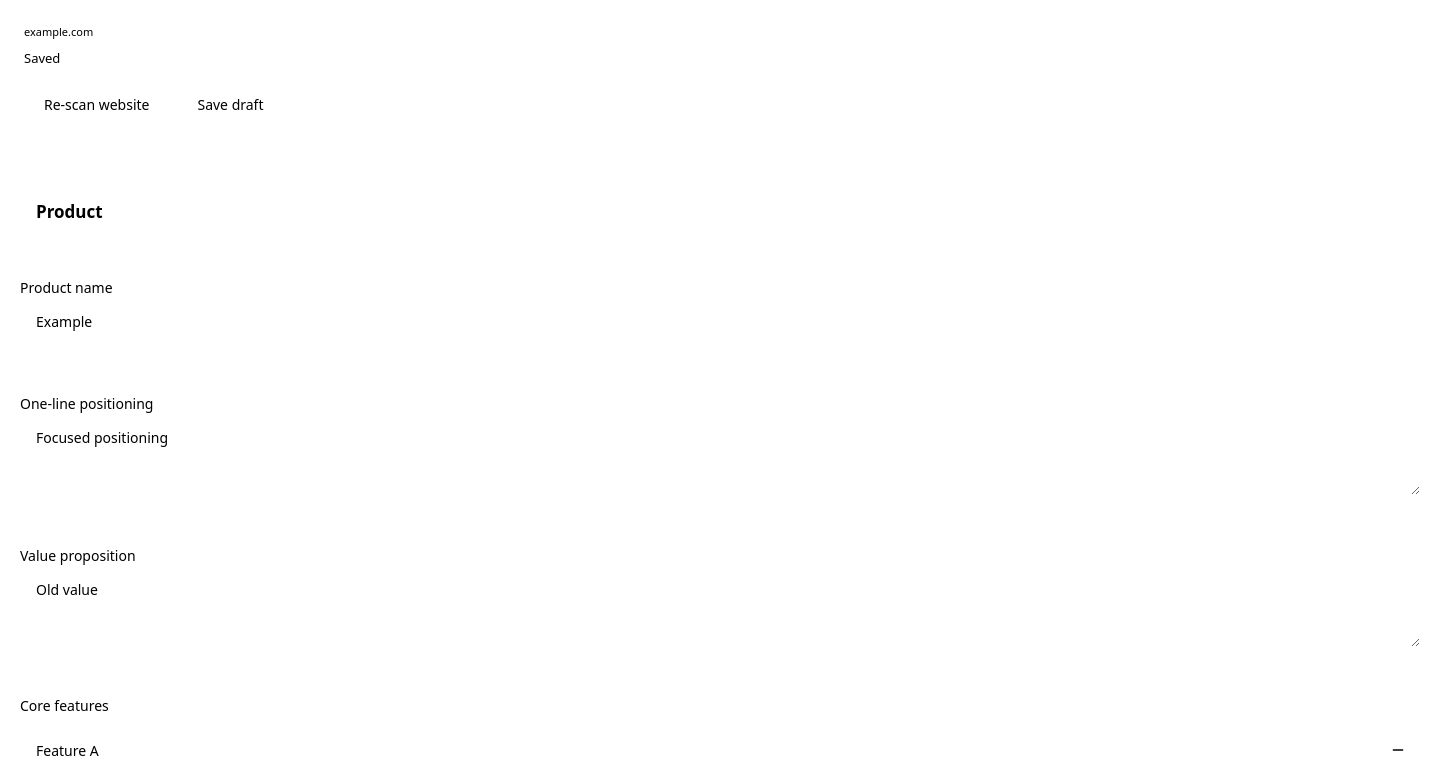
Scenario: WebsiteProfileEditor › does not discover competitors when manual refresh proposals are dismissed
Click the button "Re-scan website".
click(97, 104)  # box [24,84,170,124]
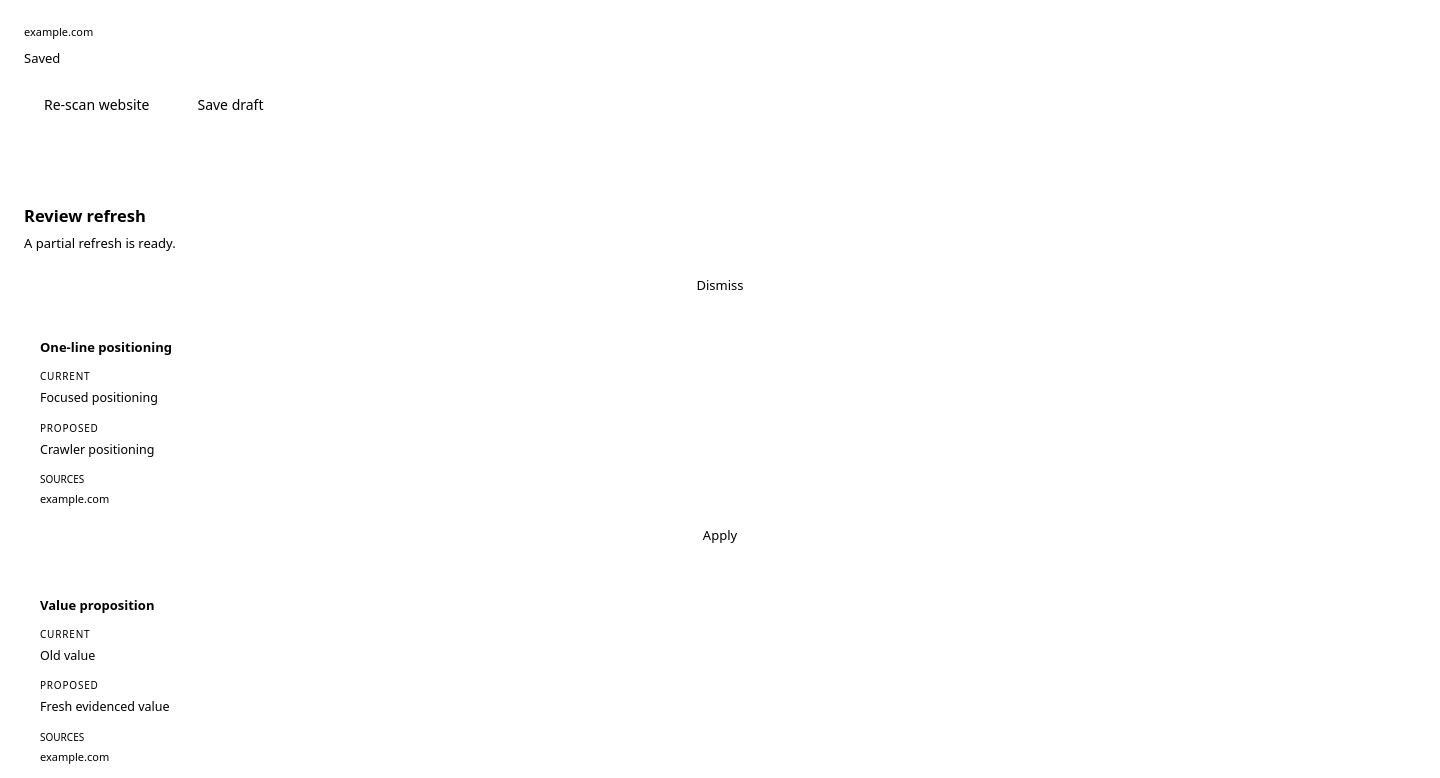
Click the button "Dismiss".
click(720, 286)  # box [24,270,1416,302]
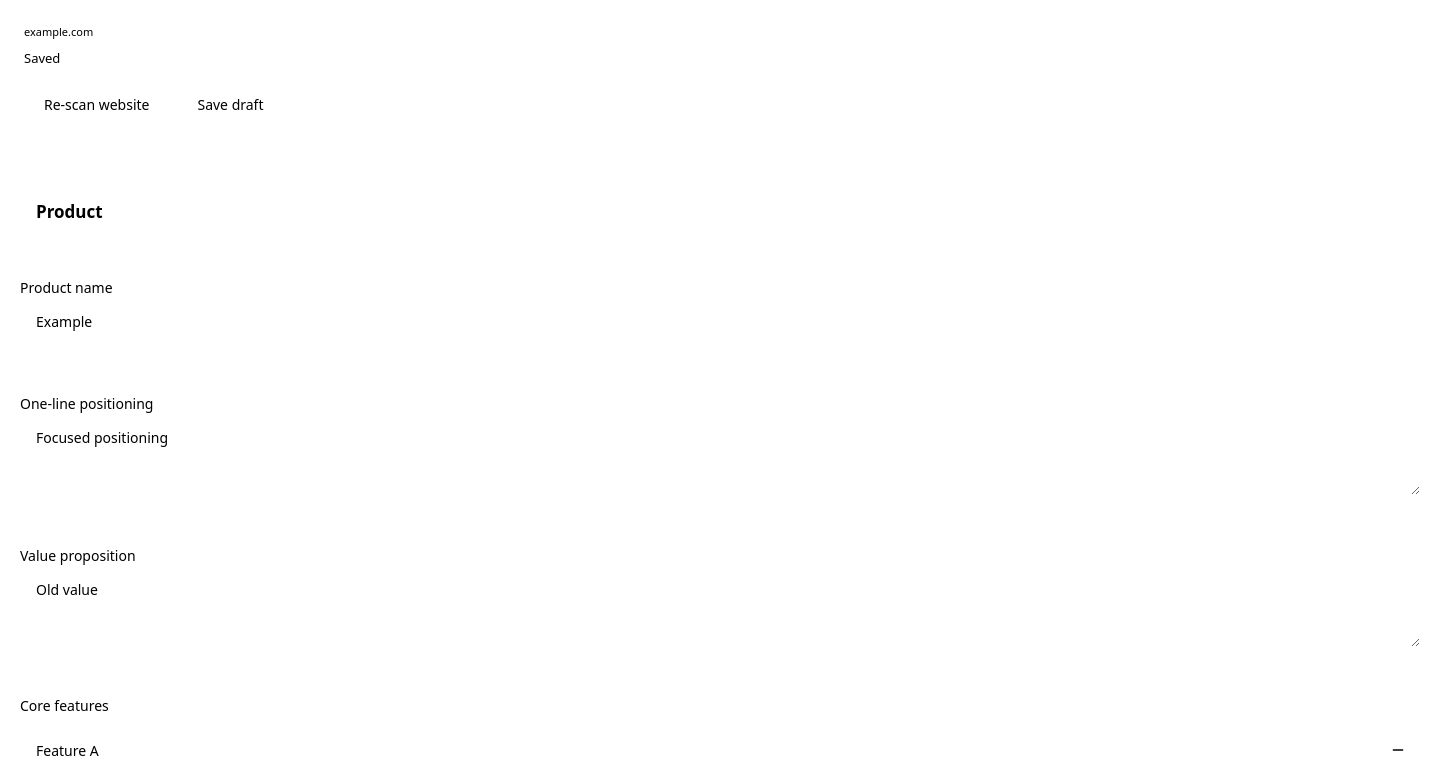
Now the text "Crawler positioning" is gone
